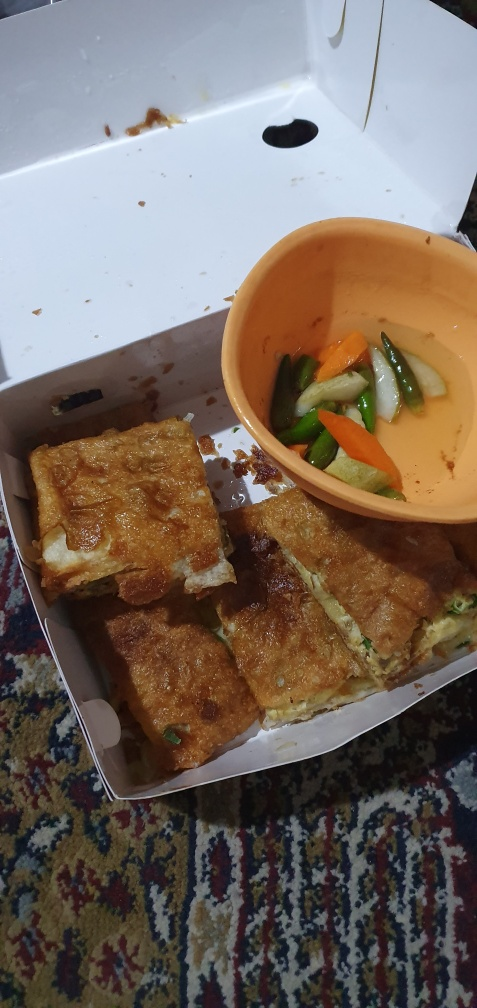martabak telor: (22, 425, 229, 586)
